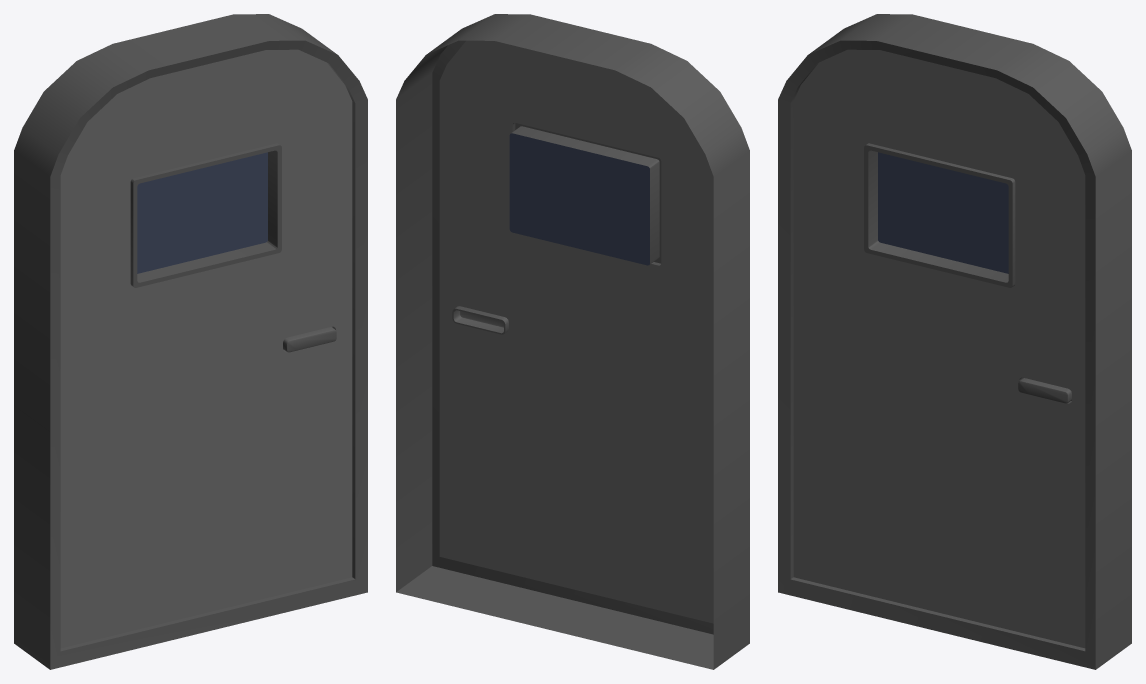
Rendered from BunkerDoor.fbx.
3 renders of one model, left to right at view 1: azimuth 30°, elevation 25°; view 2: azimuth 150°, elevation 25°; view 3: azimuth 330°, elevation 25°, orthographic.
Visible parts, largest first — view 1: Plane; view 2: Plane; view 3: Plane.
Part boxes in pixels (<box>): Plane: <box>14,14,367,669</box>; Plane: <box>396,14,749,669</box>; Plane: <box>778,14,1131,669</box>.
Size of the model in its own units: 206 by 357 by 40.66.
